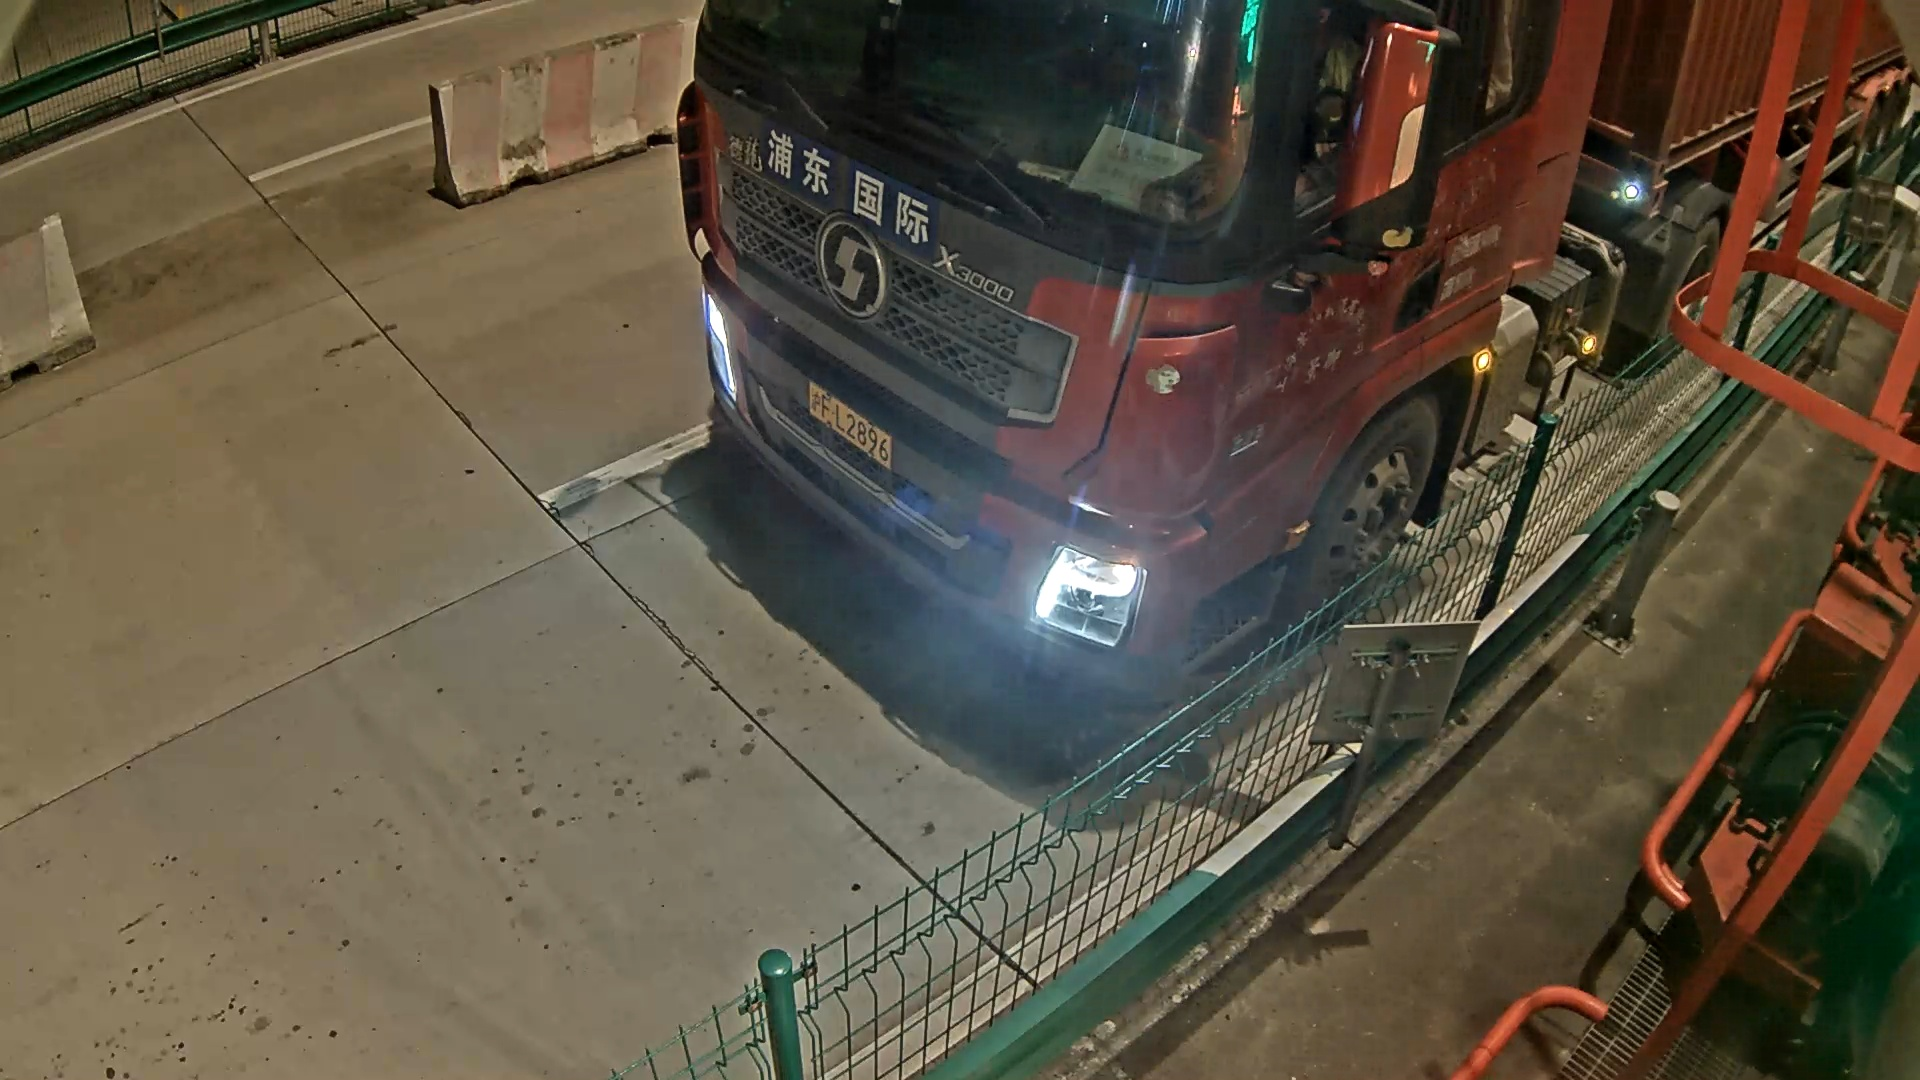head: (674, 22, 1388, 736)
plate: (799, 377, 921, 481)
